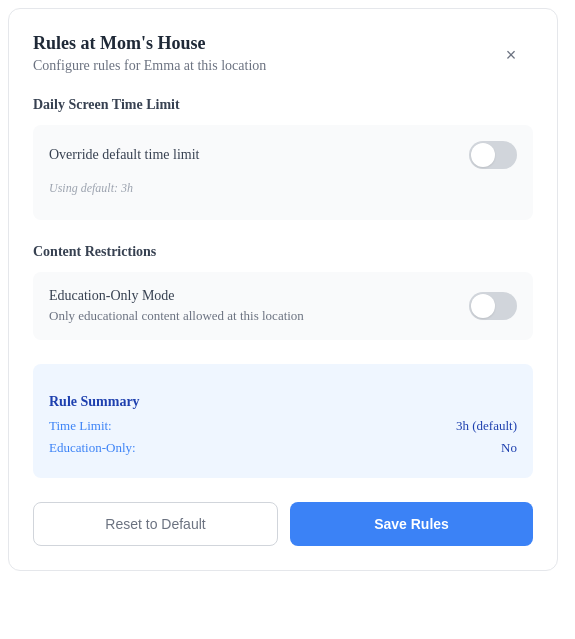
Test: LocationRuleEditor › Time Limit Configuration (AC2) › shows time slider when override enabled
The image size is (575, 639).
Click the switch with test id "override-toggle". click: (493, 155)
box: [469,141,517,169]
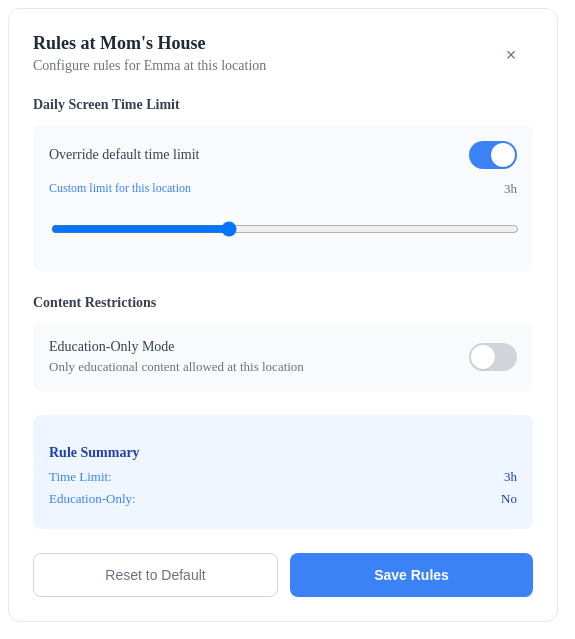
Expected: the slider with test id "time-slider" is shown, [51,207,519,251]
Expected: the text "Custom limit for this location" is shown, [49,181,191,197]
